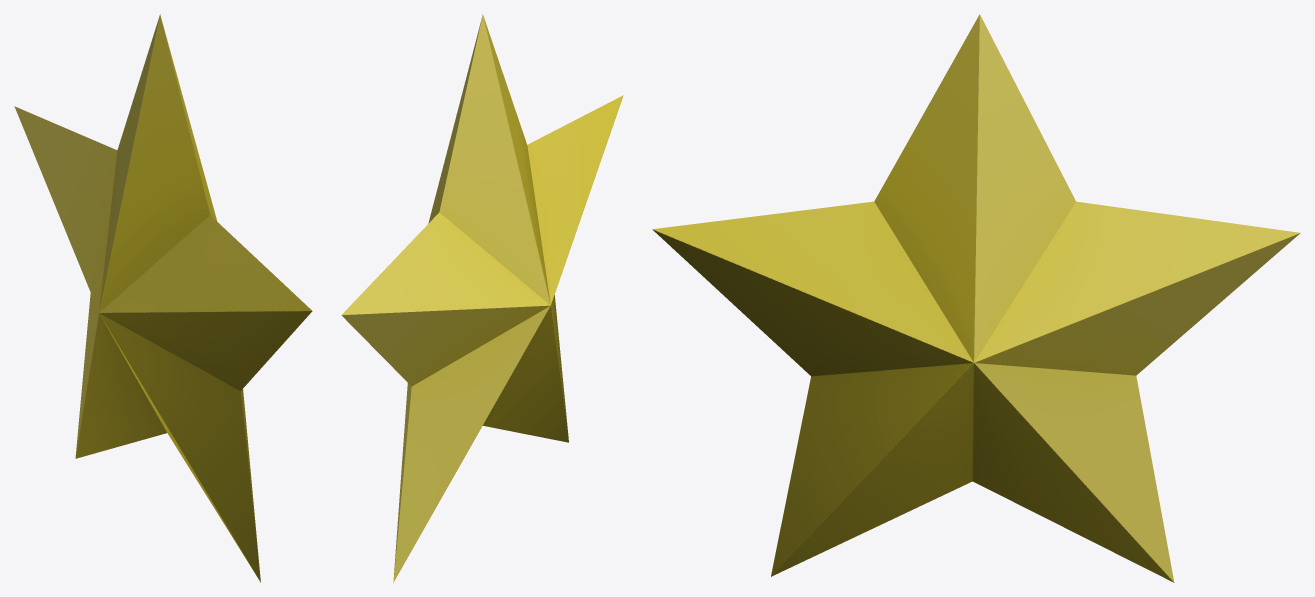
Rendered from star.obj.
The picture shows the model from 3 angles, left to right: view 1: azimuth 30°, elevation 25°; view 2: azimuth 150°, elevation 25°; view 3: azimuth 270°, elevation 25°; orthographic projection. The views are drawn at different scales.
Visible parts, largest first — view 1: star_Plane.002; view 2: star_Plane.002; view 3: star_Plane.002.
Boxes of the visible parts, bbox=[...] form: star_Plane.002: bbox=[14, 14, 312, 582]; star_Plane.002: bbox=[341, 14, 623, 582]; star_Plane.002: bbox=[652, 14, 1300, 582].
Size of the model in its own units: 1.61 by 5.8 by 6.01.
